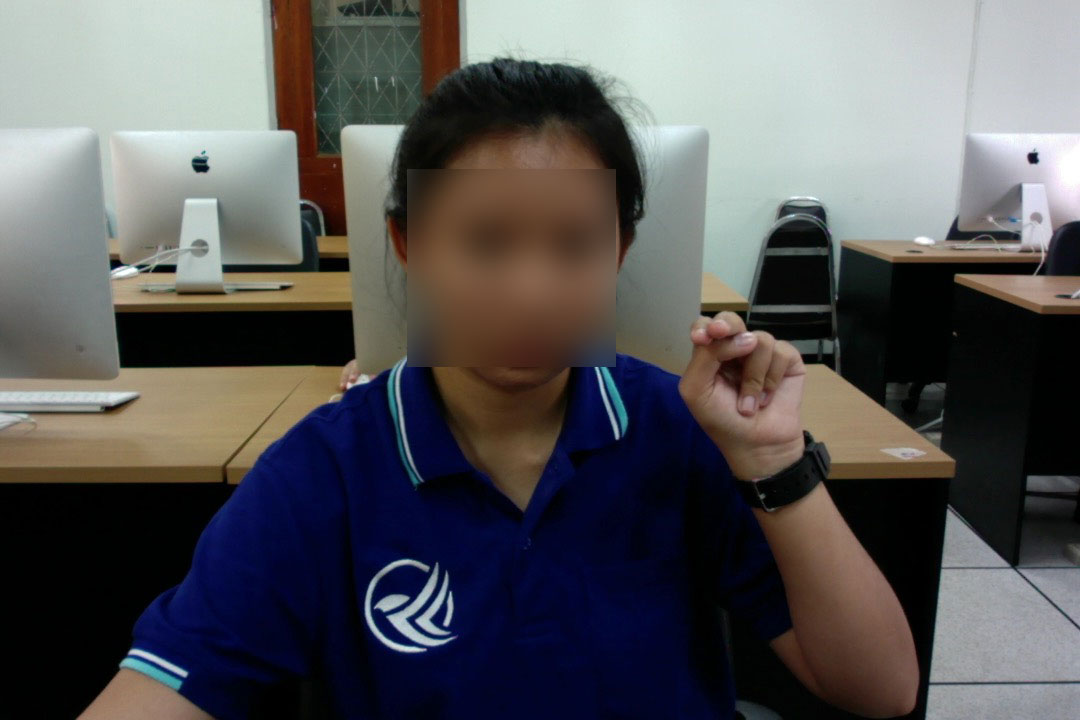nor: (672, 306, 810, 463)
